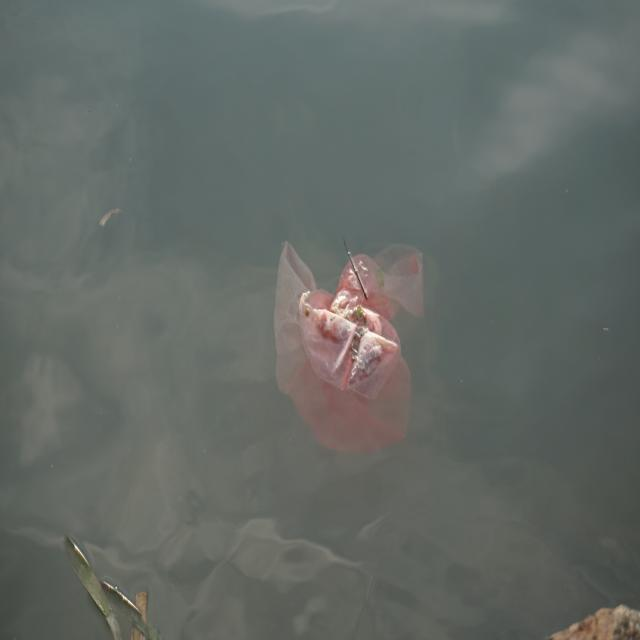Kantong Plastik: (272, 232, 428, 458)
